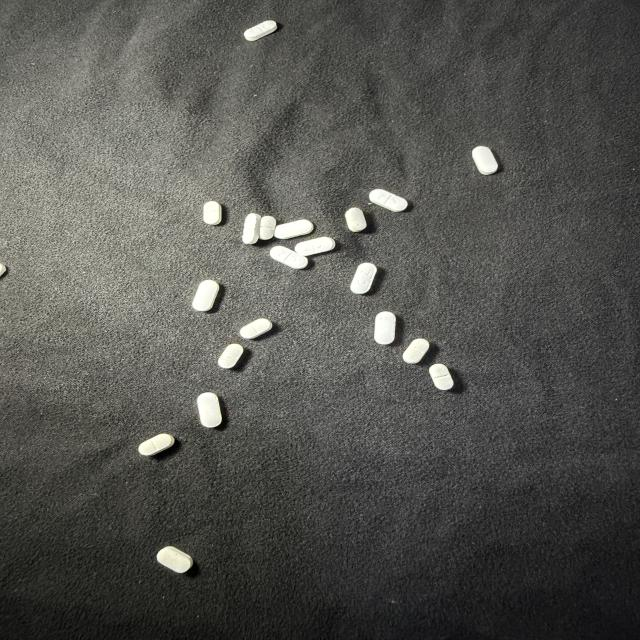pill: (157, 547, 193, 573), (270, 246, 308, 269), (369, 189, 408, 211), (197, 393, 222, 427), (192, 280, 219, 311), (138, 434, 174, 455), (351, 263, 376, 293), (472, 146, 498, 174), (275, 220, 313, 239), (295, 237, 335, 255), (244, 20, 277, 41), (374, 312, 395, 344), (240, 319, 272, 339), (429, 364, 453, 390), (403, 339, 429, 363), (218, 344, 243, 368), (242, 214, 260, 244), (345, 208, 366, 232), (203, 201, 222, 224), (260, 216, 276, 240), (0, 264, 6, 276)
